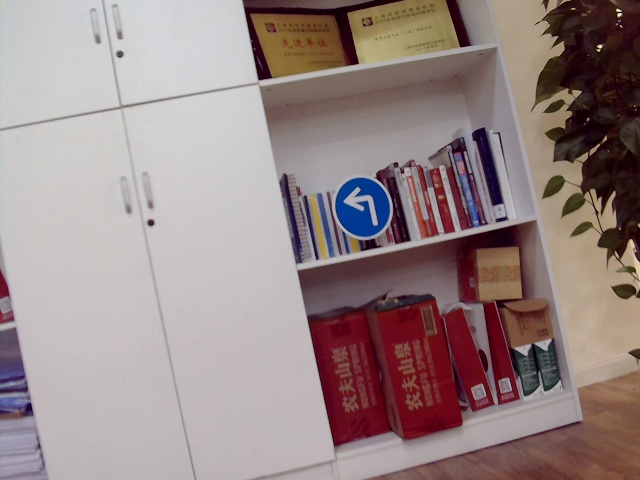turn_left: (344, 185, 380, 226)
